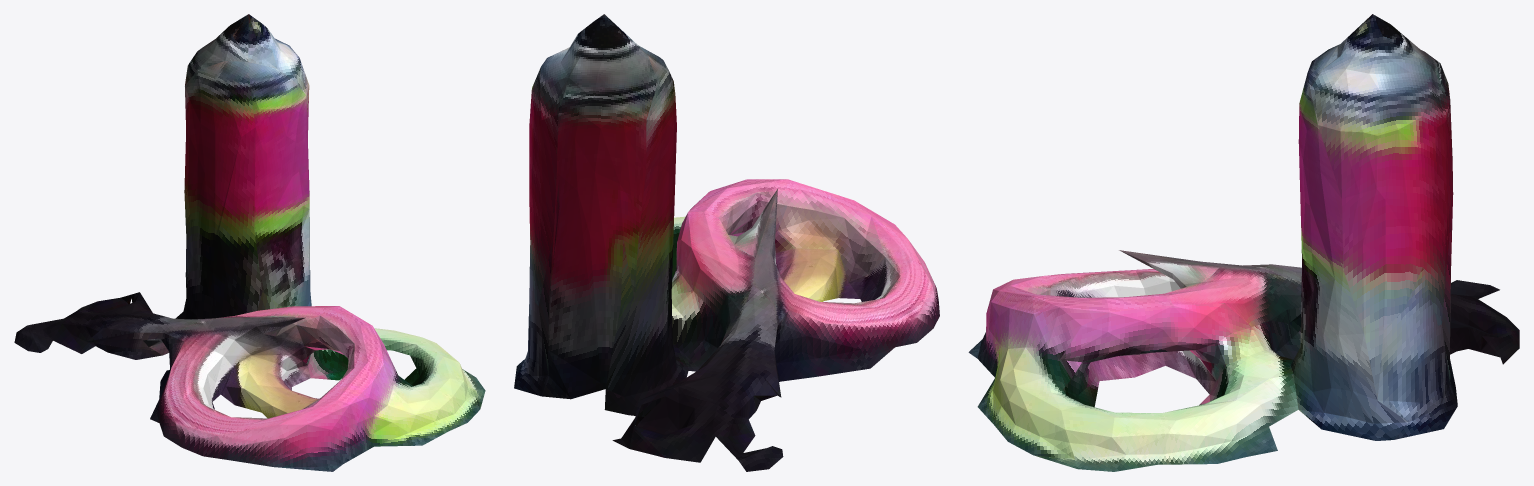
The model's file is 1024-street.glb.
3 views of the same model, side by side, from view 1: azimuth 30°, elevation 25°; view 2: azimuth 150°, elevation 25°; view 3: azimuth 270°, elevation 25° (orthographic). The views are drawn at different scales.
Visible parts, largest first — view 1: Mesh_0; view 2: Mesh_0; view 3: Mesh_0.
Part boxes in pixels (x1=…): Mesh_0: x1=14, y1=14, x2=485, y2=471; Mesh_0: x1=514, y1=14, x2=939, y2=471; Mesh_0: x1=968, y1=14, x2=1519, y2=471.
Bounding box in the file's own units: 0.1916 × 0.187 × 0.2414.
Materials: 1 (1 with a texture image).
